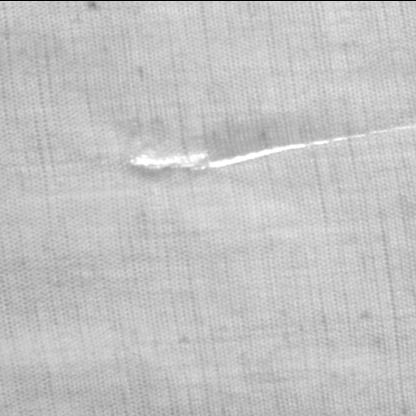hole: (127, 119, 415, 172)
